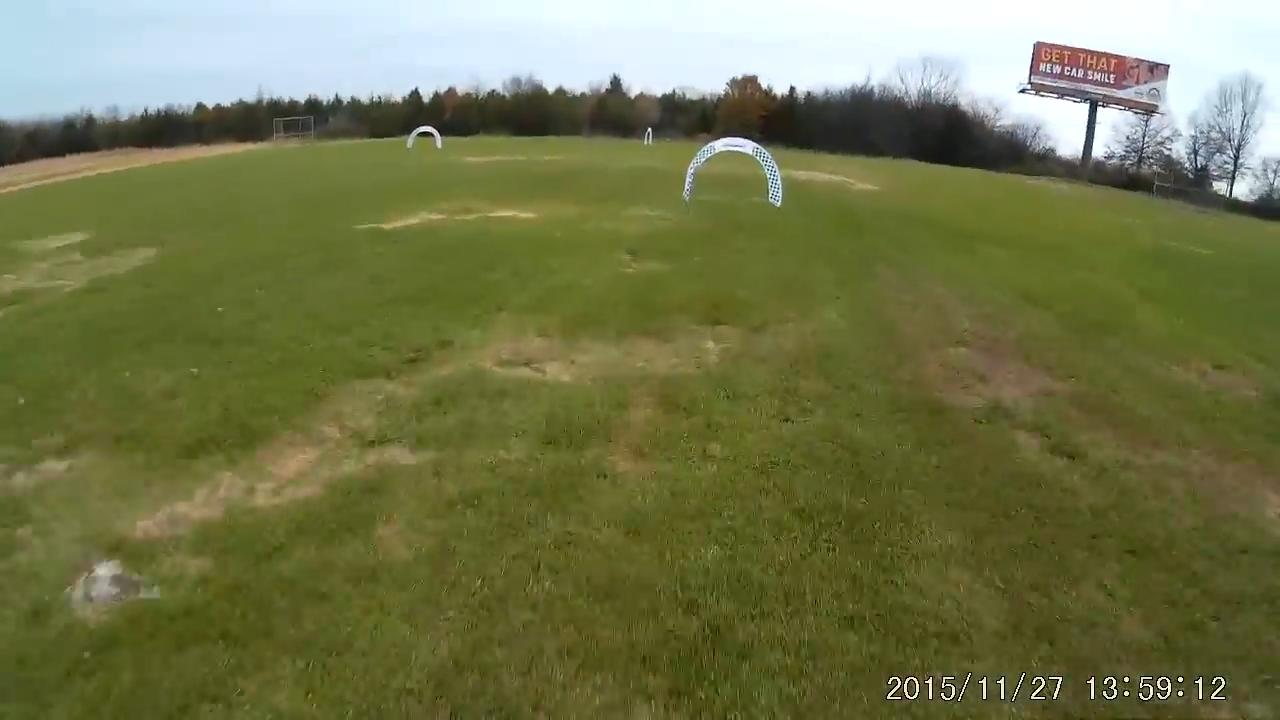gate: (679, 134, 788, 207)
